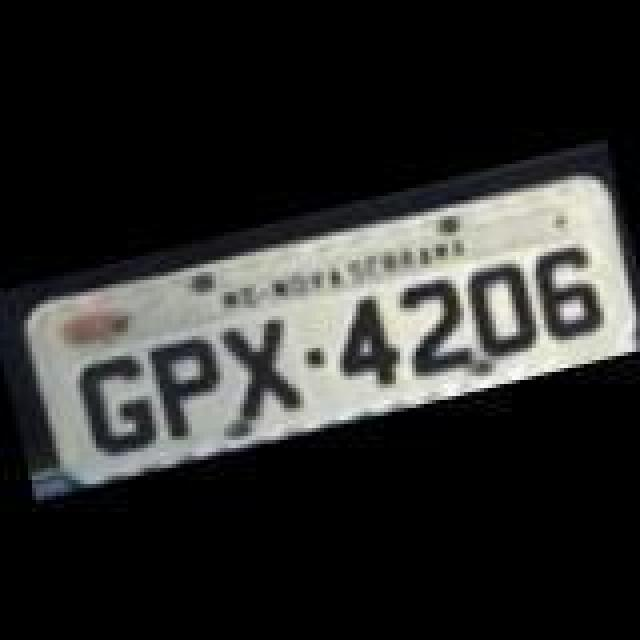2: (392, 270, 488, 386)
4: (320, 282, 416, 398)
6: (524, 232, 612, 344)
G: (70, 352, 162, 464)
O: (460, 254, 548, 362)
P: (146, 328, 238, 440)
X: (208, 310, 304, 426)
